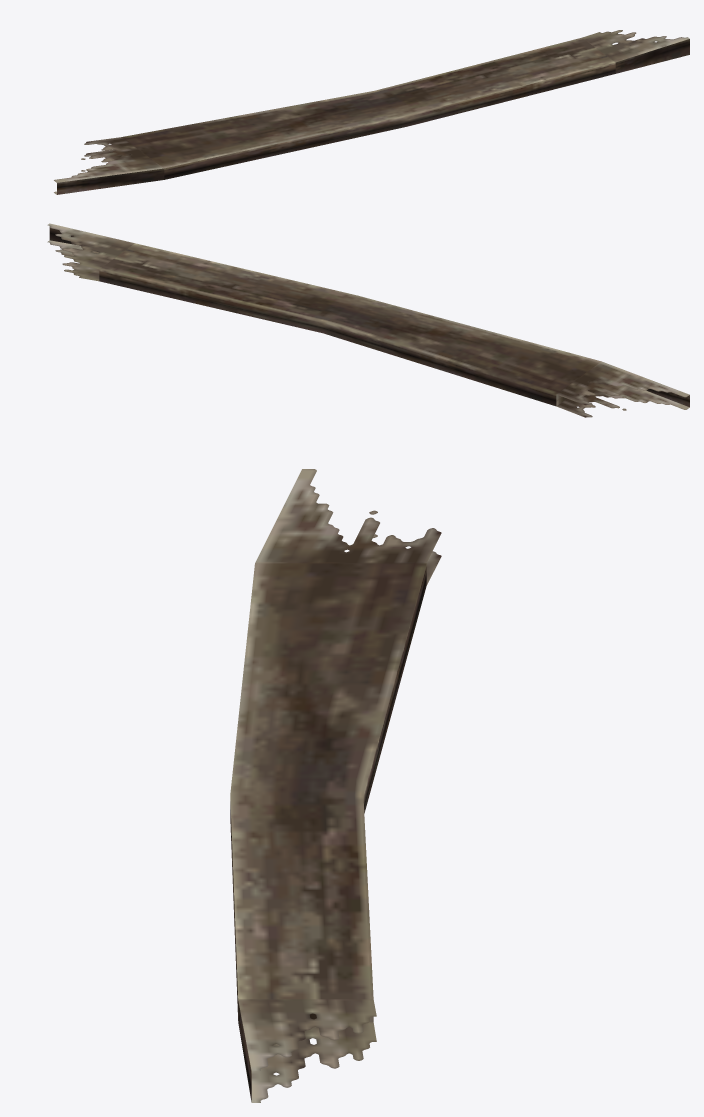
The model's file is OZ_20_mi_wood03A.glb.
The picture shows the model from 3 angles, top to bottom: view 1: azimuth 30°, elevation 25°; view 2: azimuth 150°, elevation 25°; view 3: azimuth 270°, elevation 25°; orthographic projection. The views are drawn at different scales.
Parts seen in each view (by area): view 1: OM_20_mi_wood03A; view 2: OM_20_mi_wood03A; view 3: OM_20_mi_wood03A.
Part boxes in pixels (left/top/right/bottom): OM_20_mi_wood03A: left=54, top=30, right=689, bottom=194; OM_20_mi_wood03A: left=47, top=223, right=689, bottom=417; OM_20_mi_wood03A: left=230, top=469, right=441, bottom=1102.
Bounding box in the file's own units: 1.98 × 0.0489 × 0.3368.
Materials: 1 (1 with a texture image).
